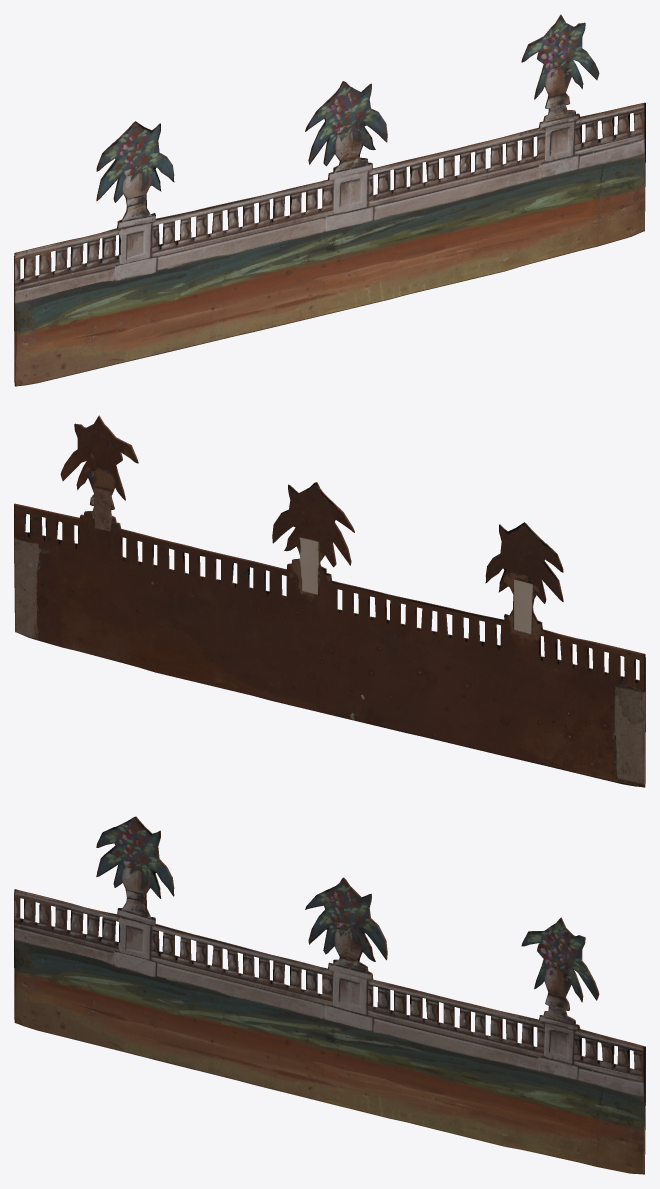
The model's file is X1_Teil2.fbx.
The picture shows the model from 3 angles, top to bottom: view 1: azimuth 30°, elevation 25°; view 2: azimuth 150°, elevation 25°; view 3: azimuth 330°, elevation 25°; orthographic projection.
Visible parts, largest first — view 1: X1_2; view 2: X1_2; view 3: X1_2.
Boxes of the visible parts, x1=… form: X1_2: x1=14, y1=14, x2=645, y2=386; X1_2: x1=14, y1=415, x2=645, y2=787; X1_2: x1=14, y1=816, x2=645, y2=1174.
Size of the model in its own units: 97.22 by 35.73 by 0.1921.
